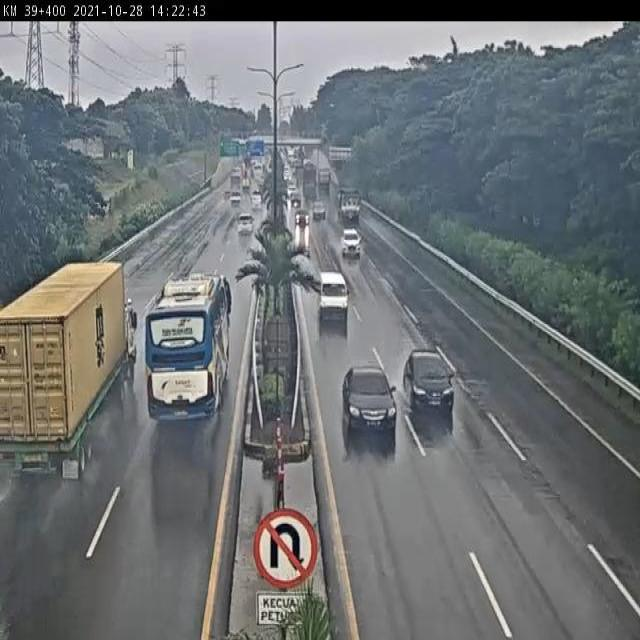bus-l-: (147, 272, 233, 420)
truck-xl-: (0, 263, 140, 477)
